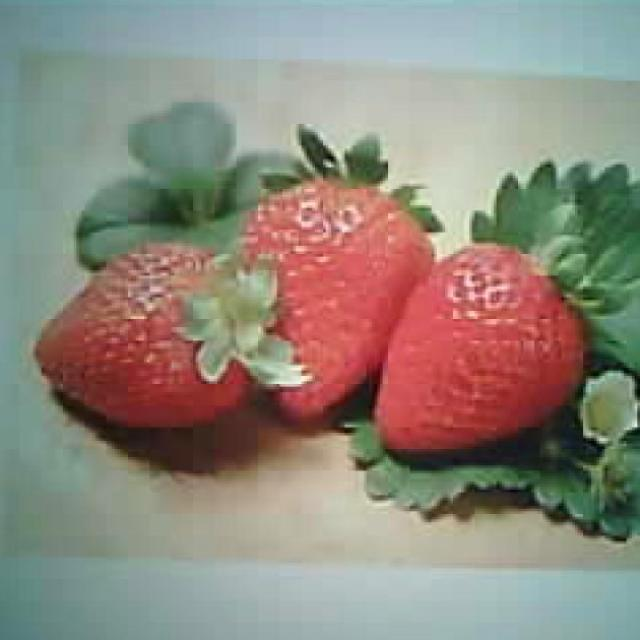Healthy Fruit: (235, 176, 435, 428), (373, 241, 586, 453), (34, 240, 255, 429)
